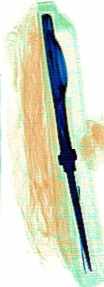scissors: (35, 10, 92, 272)
